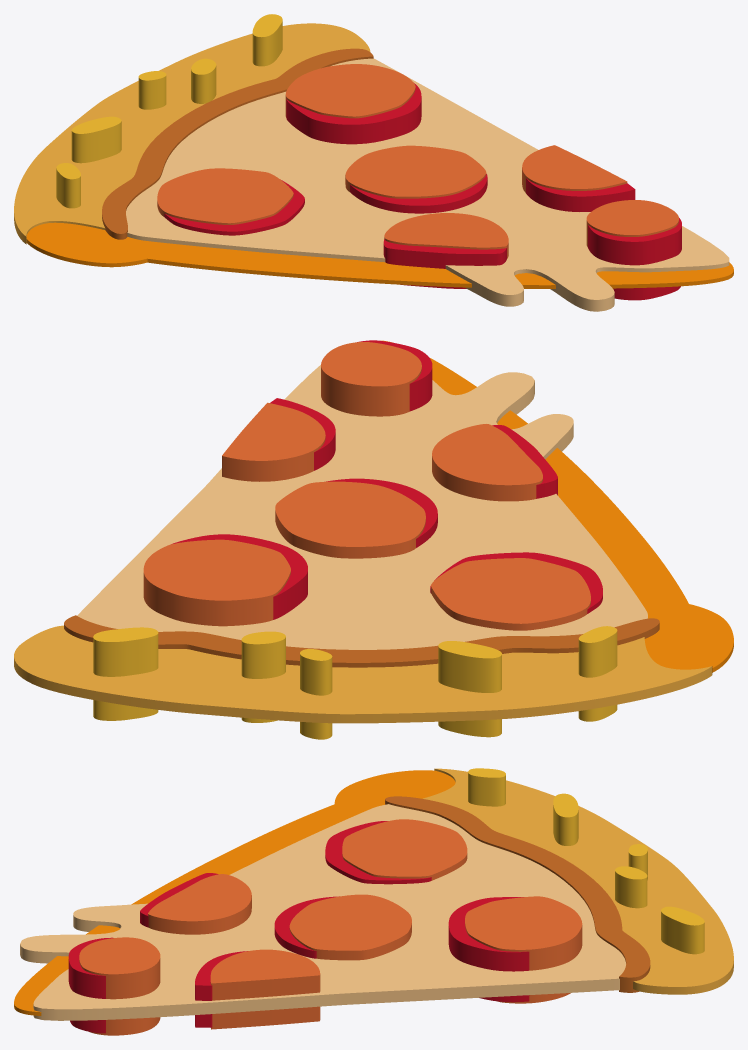
The model's file is emoji_u1f355.glb.
3 renders of one model, top to bottom at view 1: azimuth 30°, elevation 25°; view 2: azimuth 150°, elevation 25°; view 3: azimuth 270°, elevation 25°, orthographic. The views are drawn at different scales.
Visible parts, largest first — view 1: emoji_u1f355; view 2: emoji_u1f355; view 3: emoji_u1f355.
Boxes of the visible parts, x1,y1,x2,y2 form: emoji_u1f355: (14, 14, 733, 311); emoji_u1f355: (14, 340, 733, 739); emoji_u1f355: (14, 768, 733, 1035).
Bounding box in the file's own units: 0.0272 × 0.0034 × 0.034.
